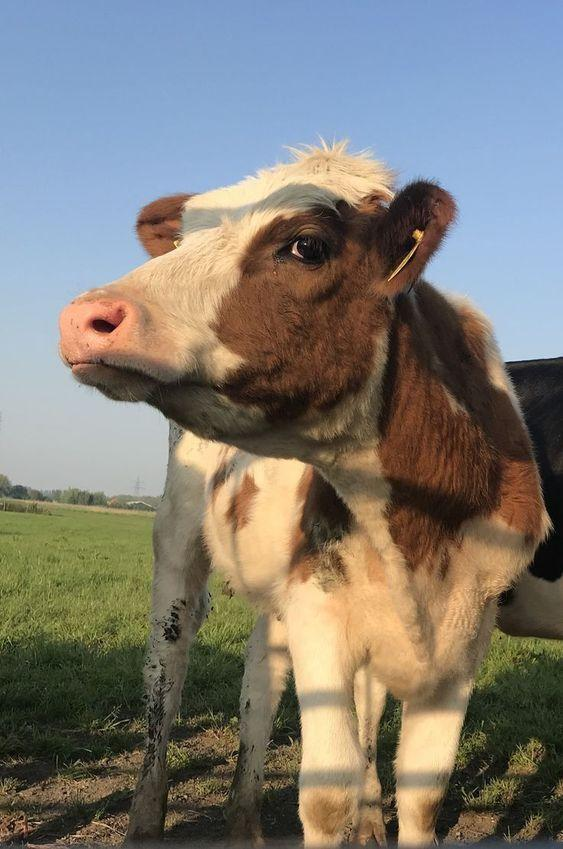cow: (78, 105, 502, 665)
